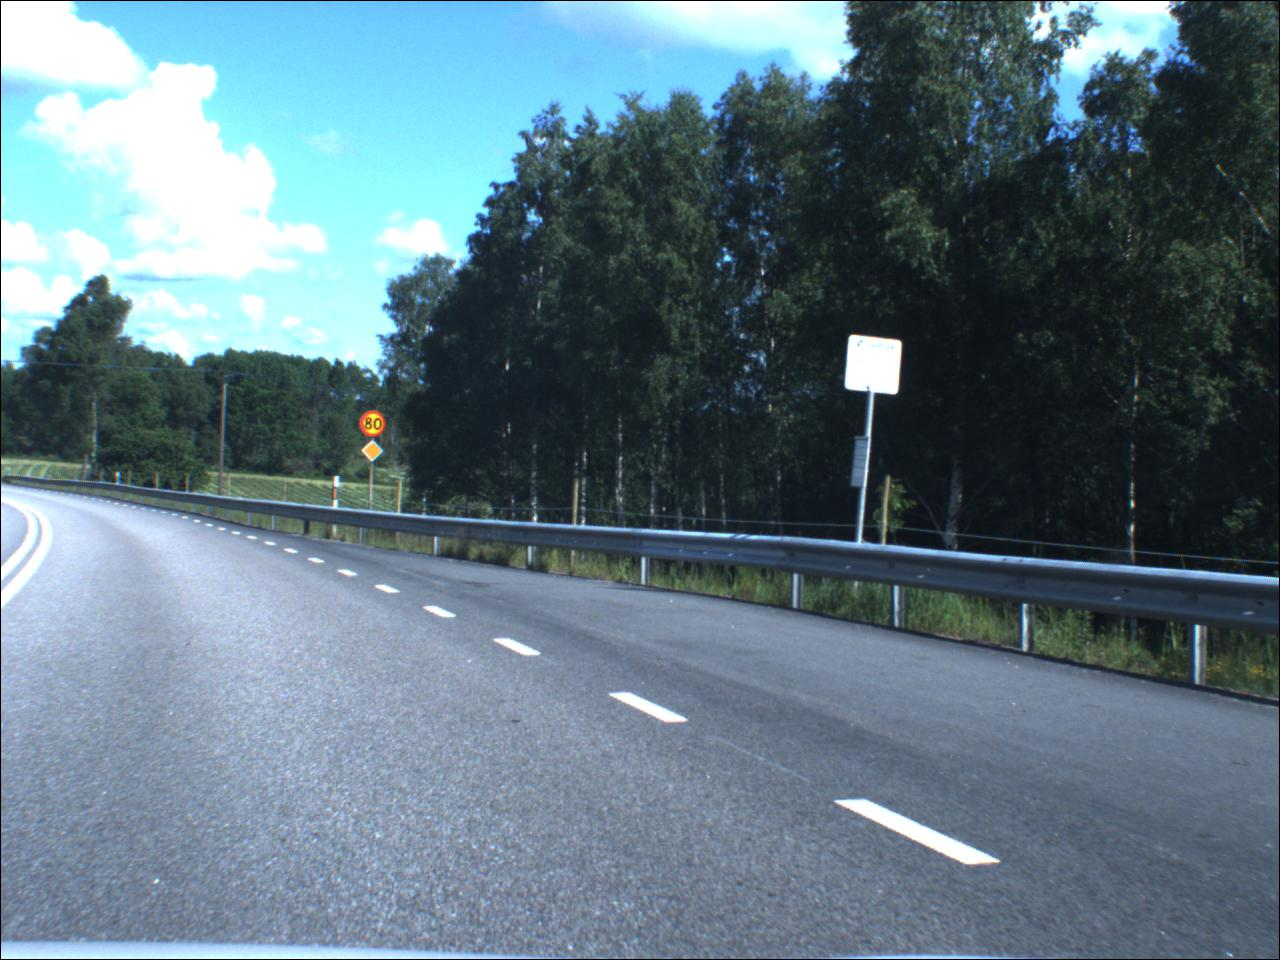80_SIGN: (361, 411, 388, 440)
PRIORITY_ROAD: (363, 442, 386, 464)
